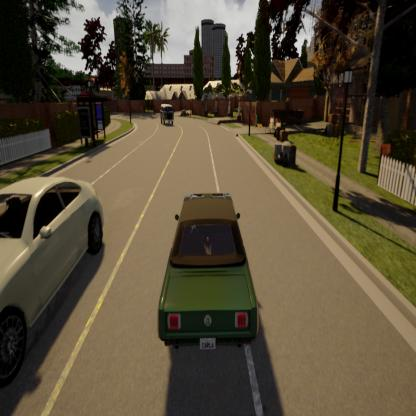Cars: (0, 83, 118, 380), (148, 172, 274, 376), (153, 91, 179, 131)
